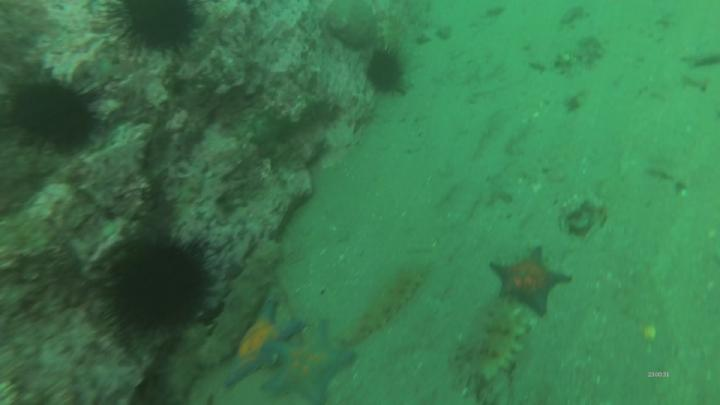echinus: (115, 245, 206, 332), (19, 86, 93, 154), (118, 4, 197, 48), (368, 55, 402, 91)
starfish: (199, 239, 282, 371), (268, 321, 358, 405), (226, 300, 304, 388), (348, 269, 423, 348), (492, 246, 572, 314), (483, 308, 533, 383), (168, 326, 208, 398)
